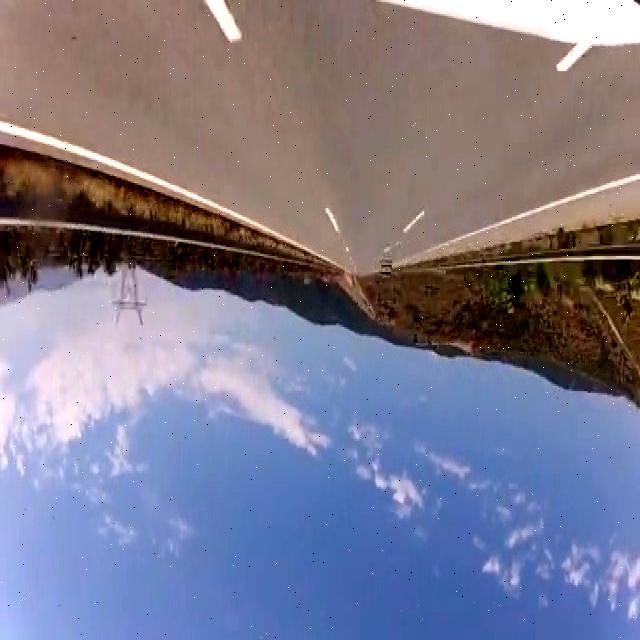lane: (0, 120, 339, 266), (425, 174, 640, 252), (205, 1, 240, 41), (556, 43, 590, 71), (325, 208, 339, 233)
road: (3, 1, 639, 275)
